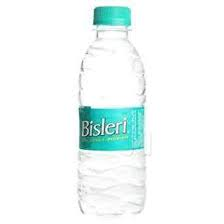Bisleri: (78, 108, 147, 150)
plastic: (85, 42, 140, 196)
